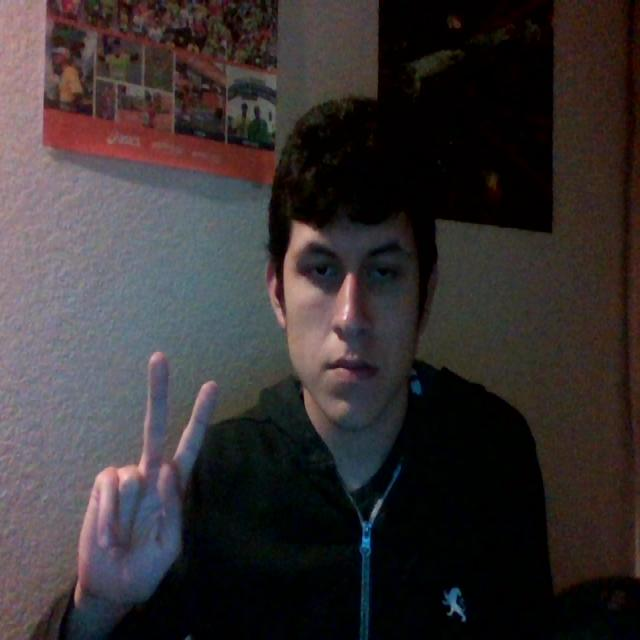K: (64, 284, 271, 640)
